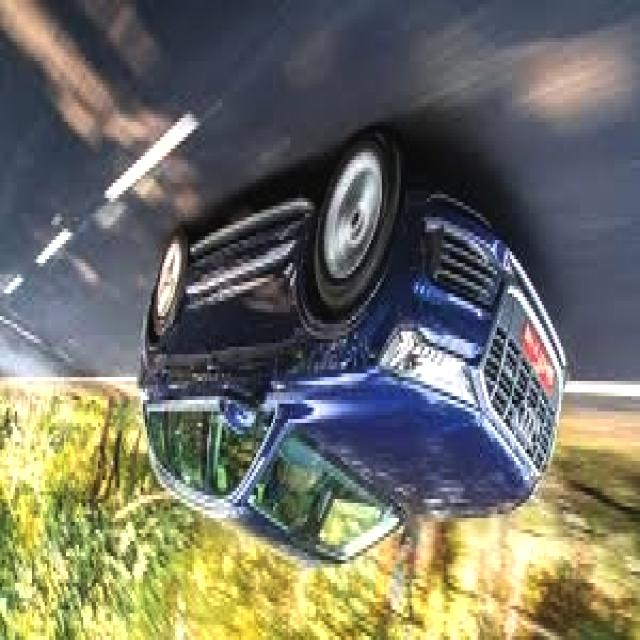blue: (144, 143, 564, 566)
